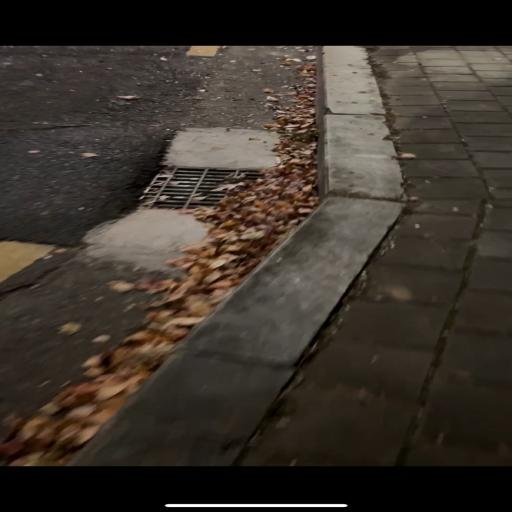debris: (145, 203, 175, 209), (165, 166, 174, 169)
drain: (145, 165, 313, 215)
